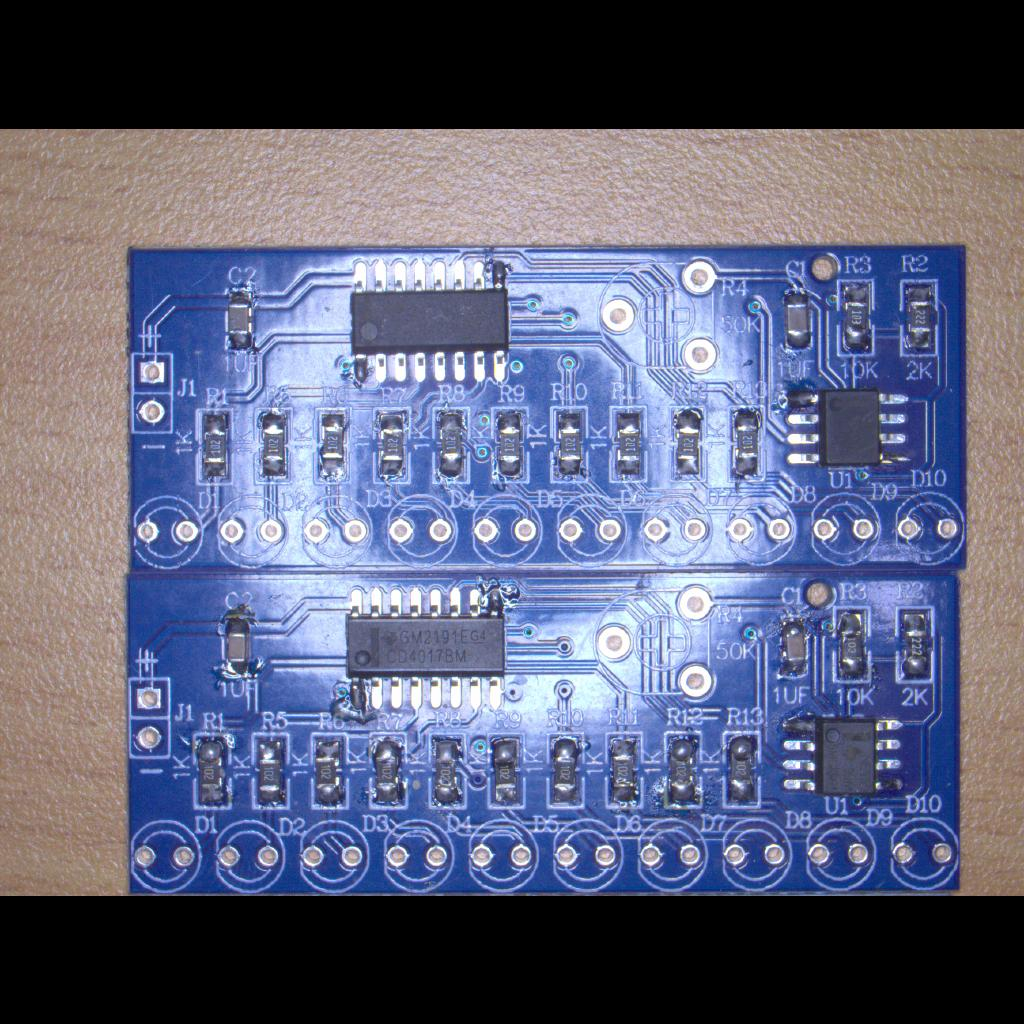OK: (340, 252, 516, 392), (340, 579, 508, 717), (776, 706, 916, 804), (780, 381, 914, 471), (774, 602, 822, 692), (248, 728, 296, 814), (366, 728, 412, 816), (307, 727, 353, 813), (190, 728, 236, 814), (720, 726, 764, 814), (893, 603, 939, 687), (603, 728, 647, 814), (832, 602, 876, 688), (836, 274, 878, 364), (546, 403, 592, 485), (426, 730, 470, 814), (484, 730, 528, 814), (896, 275, 940, 359), (662, 728, 704, 814), (217, 604, 259, 688), (310, 404, 354, 484), (488, 402, 530, 484), (429, 404, 471, 484), (668, 401, 708, 485), (728, 402, 768, 486), (546, 730, 588, 808), (608, 402, 648, 482), (192, 406, 232, 484), (776, 279, 816, 357), (372, 404, 410, 486), (252, 406, 292, 482), (222, 282, 258, 356)
